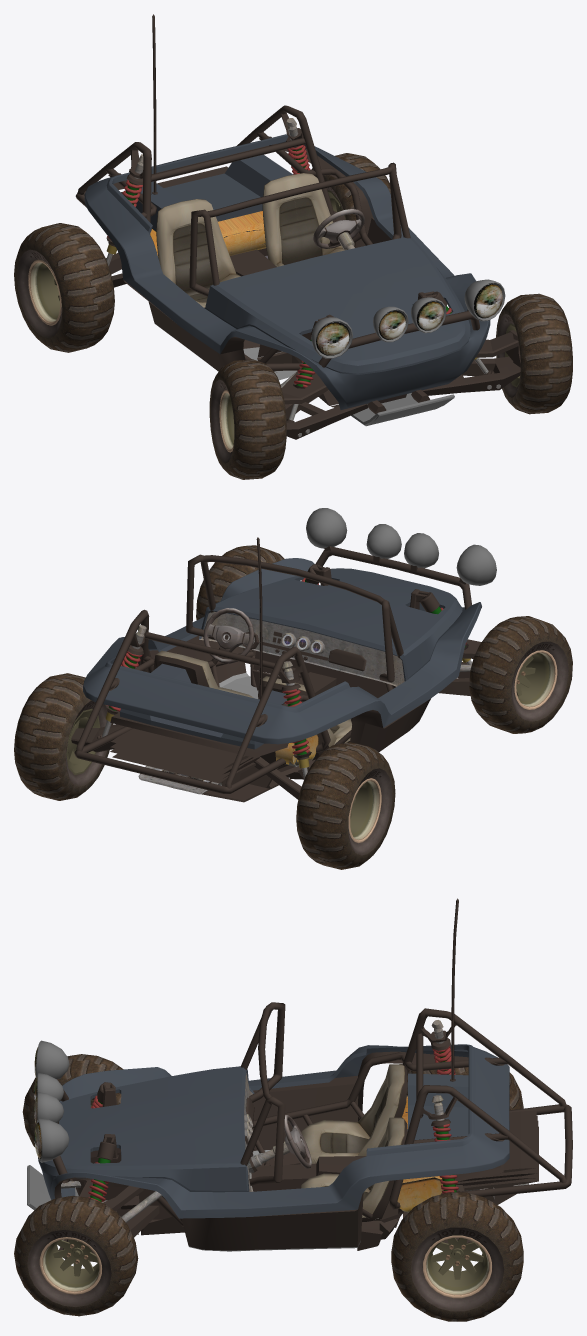
Rendered from Car.glb.
3 views of the same model, one above another, from view 1: azimuth 30°, elevation 25°; view 2: azimuth 150°, elevation 25°; view 3: azimuth 270°, elevation 25° (orthographic). The views are drawn at different scales.
Parts seen in each view (by area): view 1: node_id99, node_id103, node_id34, node_id53, node_id60, node_id74, node_id77, node_id43, node_id41, node_id111, node_id49, node_id109 (+9 smaller); view 2: node_id99, node_id103, node_id53, node_id67, node_id60, node_id41, node_id101, node_id88, node_id56, node_id74, node_id58, node_id49 (+13 smaller); view 3: node_id99, node_id103, node_id67, node_id74, node_id34, node_id63, node_id41, node_id65, node_id70, node_id72, node_id77, node_id60 (+9 smaller).
Boxes of the visible parts, bbox=[...] form: node_id99: bbox=[84, 134, 490, 409]; node_id103: bbox=[75, 105, 430, 414]; node_id34: bbox=[156, 173, 344, 307]; node_id53: bbox=[14, 223, 114, 352]; node_id60: bbox=[209, 359, 286, 479]; node_id74: bbox=[496, 293, 572, 414]; node_id77: bbox=[281, 291, 520, 439]; node_id43: bbox=[316, 284, 502, 355]; node_id41: bbox=[311, 279, 505, 358]; node_id111: bbox=[150, 211, 266, 256]; node_id49: bbox=[28, 259, 61, 325]; node_id109: bbox=[351, 393, 454, 426]; node_id99: bbox=[83, 558, 481, 749]; node_id103: bbox=[74, 554, 481, 802]; node_id53: bbox=[296, 742, 395, 869]; node_id67: bbox=[14, 673, 113, 800]; node_id60: bbox=[469, 616, 572, 733]; node_id41: bbox=[306, 508, 496, 585]; node_id101: bbox=[138, 611, 404, 794]; node_id88: bbox=[71, 627, 313, 799]; node_id56: bbox=[514, 650, 557, 709]; node_id74: bbox=[196, 545, 284, 650]; node_id58: bbox=[511, 641, 568, 721]; node_id49: bbox=[348, 778, 381, 843]; node_id99: bbox=[38, 1044, 509, 1218]; node_id103: bbox=[54, 1002, 572, 1250]; node_id67: bbox=[391, 1192, 523, 1321]; node_id74: bbox=[14, 1195, 138, 1316]; node_id34: bbox=[301, 1064, 404, 1217]; node_id63: bbox=[423, 1235, 491, 1298]; node_id41: bbox=[36, 1040, 69, 1162]; node_id65: bbox=[410, 1227, 504, 1311]; node_id70: bbox=[39, 1237, 102, 1294]; node_id72: bbox=[27, 1230, 111, 1306]; node_id77: bbox=[58, 1082, 159, 1261]; node_id60: bbox=[22, 1054, 123, 1147].
Bounding box in the file's own units: 0.512 × 0.4371 × 0.6945.
37 materials, 37 textured.
